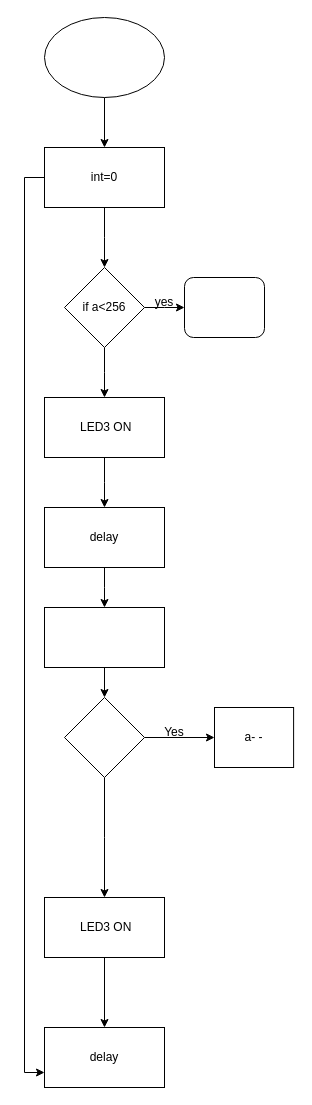
This 312x1105 diagram has some shape labels left out. Here are the shapes that lost their labels. From the top down, the centre of each, then its label:
the point at 104,57: Start
the point at 224,307: a++
the point at 104,637: int=255
the point at 104,737: if a=2
